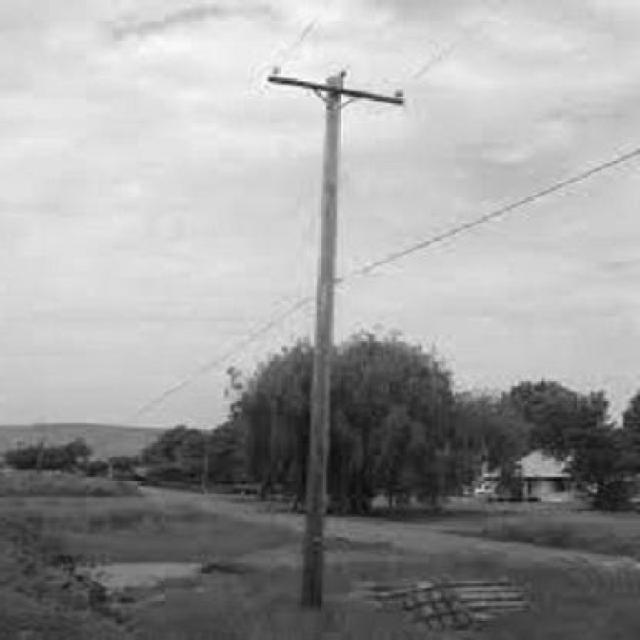Pole: (267, 72, 403, 607)
